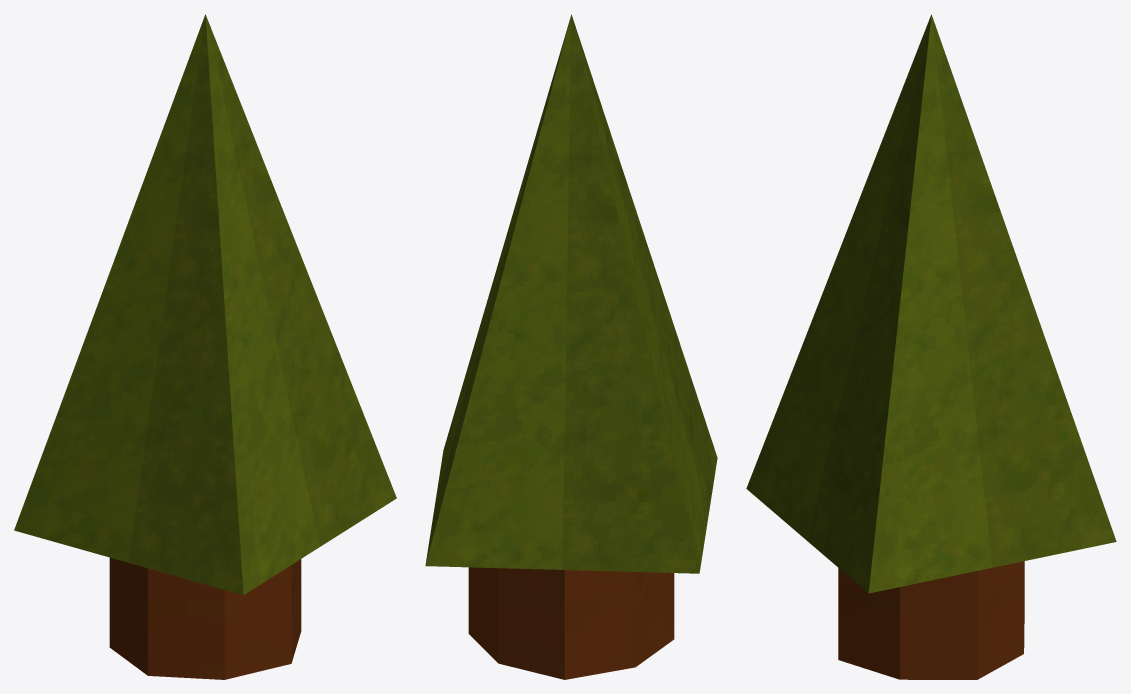
File: elka.fbx
3 renders of one model, left to right at view 1: azimuth 30°, elevation 25°; view 2: azimuth 150°, elevation 25°; view 3: azimuth 270°, elevation 25°, orthographic.
Parts seen in each view (by area): view 1: chunk0.0.019; view 2: chunk0.0.019; view 3: chunk0.0.019.
Part boxes in pixels (<box>): chunk0.0.019: <box>14,14,396,679</box>; chunk0.0.019: <box>425,14,717,679</box>; chunk0.0.019: <box>746,14,1116,679</box>.
Size of the model in its own units: 268 by 500 by 268.
